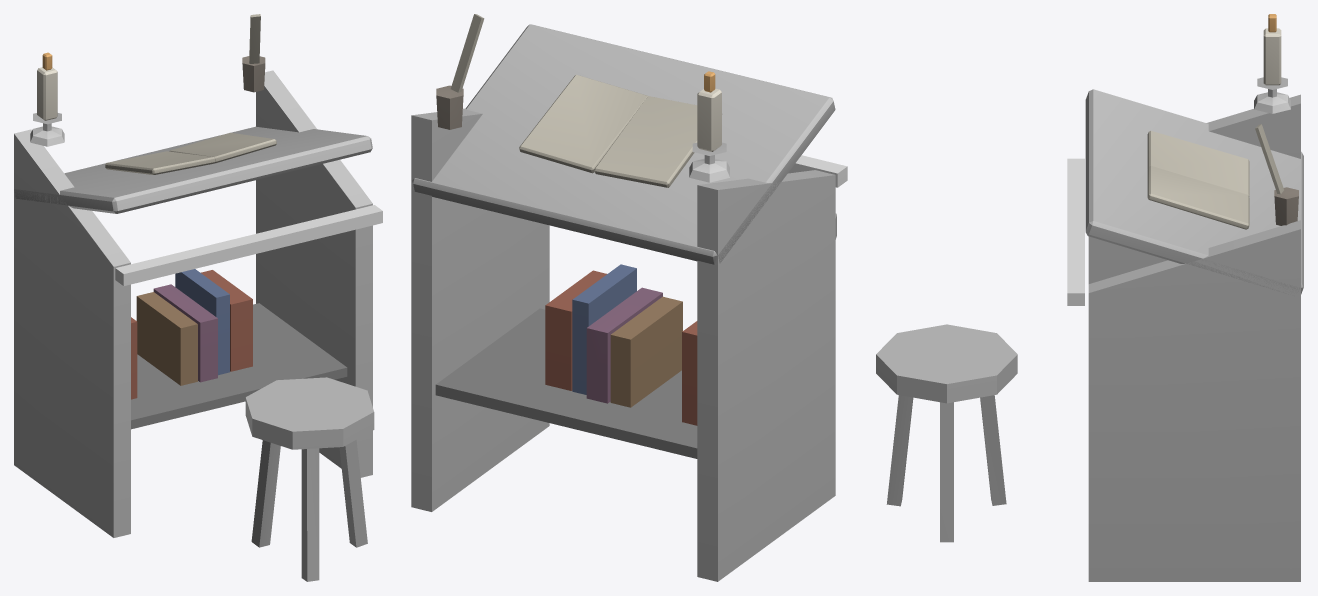
Rendered from writing_desk_0.glb.
3 renders of one model, left to right at view 1: azimuth 30°, elevation 25°; view 2: azimuth 150°, elevation 25°; view 3: azimuth 270°, elevation 25°, orthographic. The views are drawn at different scales.
Visible parts, largest first — view 1: book; view 2: book; view 3: book.
Part boxes in pixels (x1,y1,x2,y2): book: [14, 14, 382, 581]; book: [411, 14, 847, 581]; book: [876, 14, 1303, 581].
Bounding box in the file's own units: 0.9 × 1.38 × 1.21.
